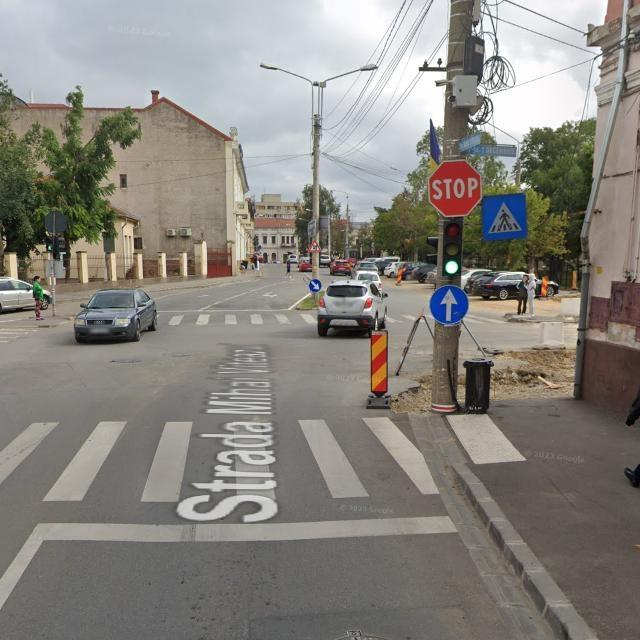info_crosswalk: (482, 193, 529, 241)
prio_stop: (428, 160, 481, 217)
